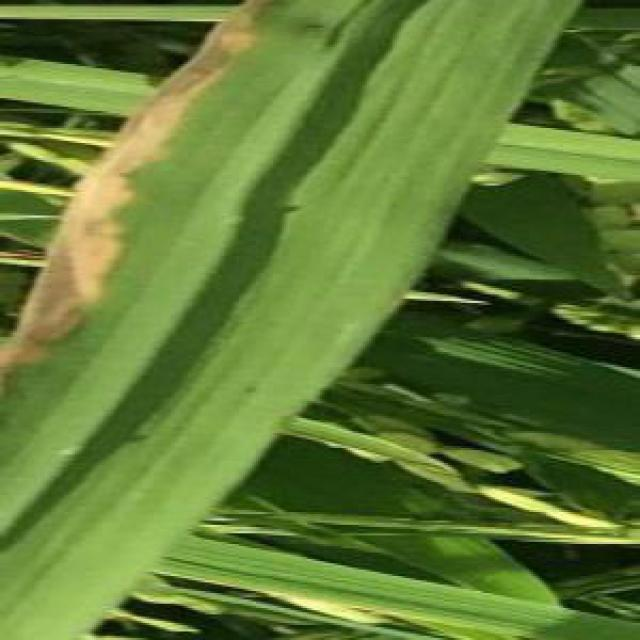Bacterial_Blight: (0, 0, 277, 371)
